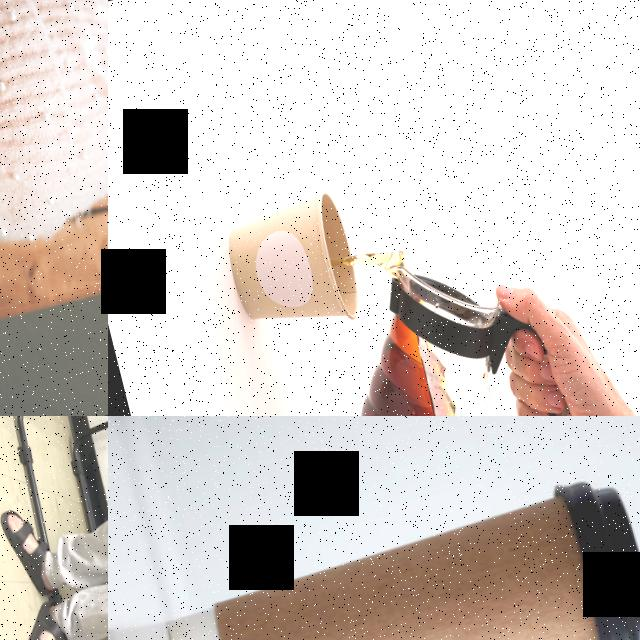cup: (146, 466, 640, 640), (215, 185, 367, 348)
